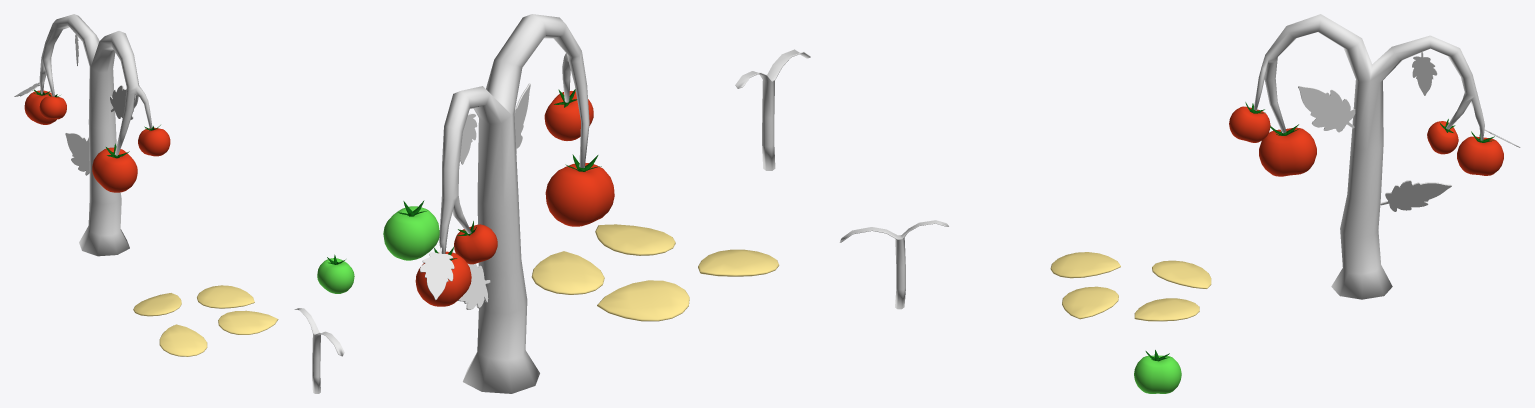
File: Tomato Plant Export.fbx
3 views of the same model, side by side, from view 1: azimuth 30°, elevation 25°; view 2: azimuth 150°, elevation 25°; view 3: azimuth 270°, elevation 25° (orthographic). The views are drawn at different scales.
Parts seen in each view (by area): view 1: Cube, Sphere, Plane.012, Plane.014, Plane.013, Sphere.001, BezierCurve, Plane.011, Sphere.004, Plane, Sphere.002, Sphere.003 (+1 smaller); view 2: Cube, Sphere, Plane.011, Plane.013, Sphere.001, Plane.014, BezierCurve, Plane.012, Sphere.004, Sphere.002, Sphere.003, Plane.003 (+3 smaller); view 3: Cube, Sphere, Plane.001, Sphere.002, Sphere.001, Plane.012, Plane.014, Plane, Plane.013, Sphere.004, BezierCurve, Plane.011 (+2 smaller).
Boxes of the visible parts, <box> form: Cube: <box>39,14,152,256</box>; Sphere: <box>92,143,137,192</box>; Plane.012: <box>159,324,207,356</box>; Plane.014: <box>218,310,278,334</box>; Plane.013: <box>197,285,254,308</box>; Sphere.001: <box>317,258,354,293</box>; BezierCurve: <box>294,308,344,393</box>; Plane.011: <box>133,293,181,316</box>; Sphere.004: <box>138,125,170,156</box>; Plane: <box>65,133,89,175</box>; Sphere.002: <box>24,89,56,124</box>; Sphere.003: <box>39,92,66,119</box>; Cube: <box>439,14,589,393</box>; Sphere: <box>545,154,614,226</box>; Plane.011: <box>597,280,689,321</box>; Plane.013: <box>531,251,604,294</box>; Sphere.001: <box>383,206,439,260</box>; Plane.014: <box>595,224,675,255</box>; BezierCurve: <box>735,49,810,170</box>; Plane.012: <box>698,249,779,276</box>; Sphere.004: <box>544,89,593,140</box>; Sphere.002: <box>415,246,471,306</box>; Sphere.003: <box>454,221,497,264</box>; Plane.003: <box>420,247,454,299</box>; Cube: <box>1254,14,1484,299</box>; Sphere: <box>1259,124,1316,176</box>; Plane.001: <box>1298,86,1355,132</box>; Sphere.002: <box>1457,131,1503,175</box>; Sphere.001: <box>1134,355,1181,393</box>; Plane.012: <box>1050,252,1120,278</box>; Plane.014: <box>1062,286,1118,319</box>; Plane: <box>1380,180,1451,211</box>; Plane.013: <box>1134,298,1199,321</box>; Sphere.004: <box>1229,102,1270,142</box>; BezierCurve: <box>839,220,948,309</box>; Plane.011: <box>1152,260,1211,288</box>.
Bounding box in the file's own units: 388 × 412 × 873.
